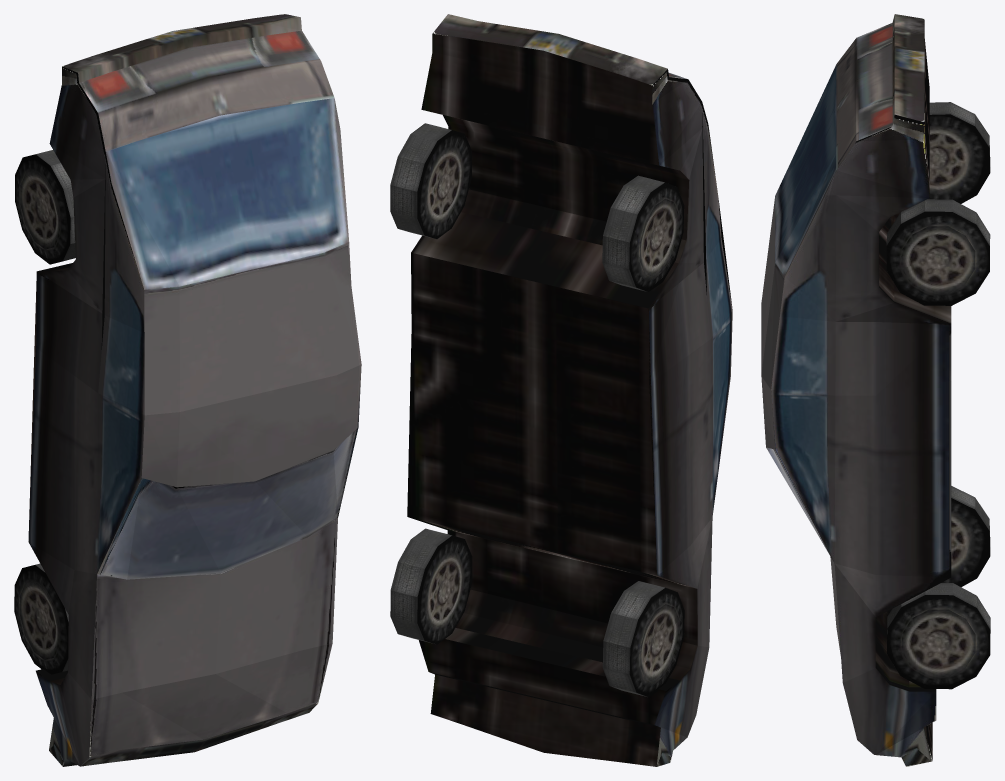
File: carpack_compact_wtf.obj
The picture shows the model from 3 angles, left to right: view 1: azimuth 30°, elevation 25°; view 2: azimuth 150°, elevation 25°; view 3: azimuth 270°, elevation 25°; orthographic projection. The views are drawn at different scales.
Visible parts, largest first — view 1: group2; view 2: group2; view 3: group2.
Part boxes in pixels (x1,y1,x2,y2): group2: [14, 14, 361, 766]; group2: [390, 14, 732, 766]; group2: [761, 14, 990, 766].
Size of the model in its own units: 244 by 660 by 204.
